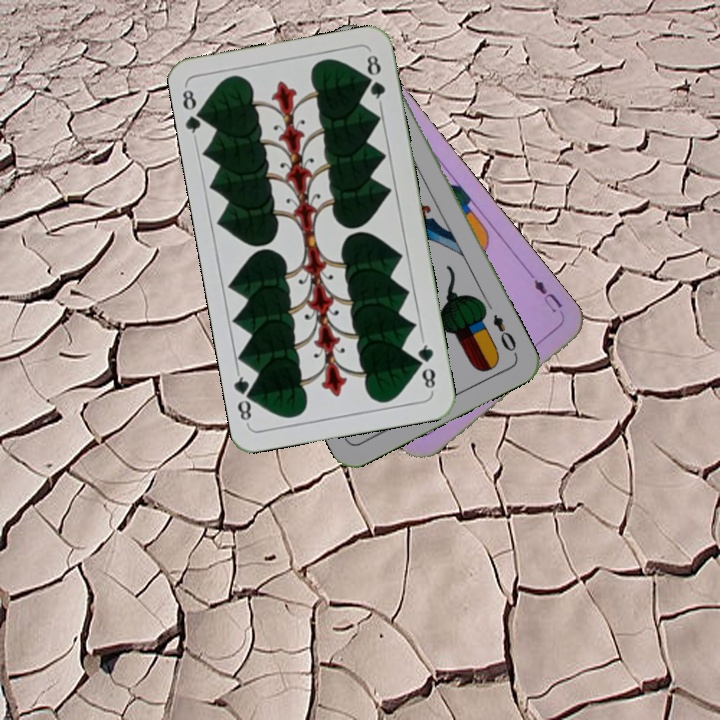EO: (489, 310, 520, 358)
EU: (529, 276, 567, 320)
G8: (178, 83, 210, 142), (413, 335, 439, 394)
